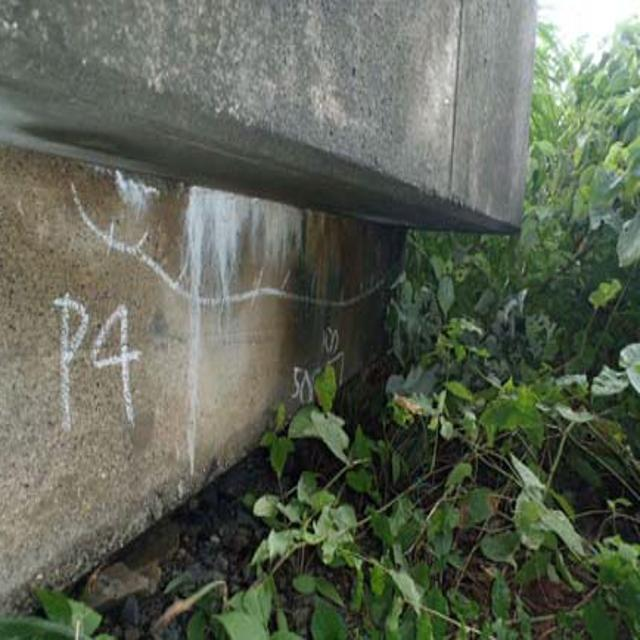freelime: (102, 144, 348, 332)
